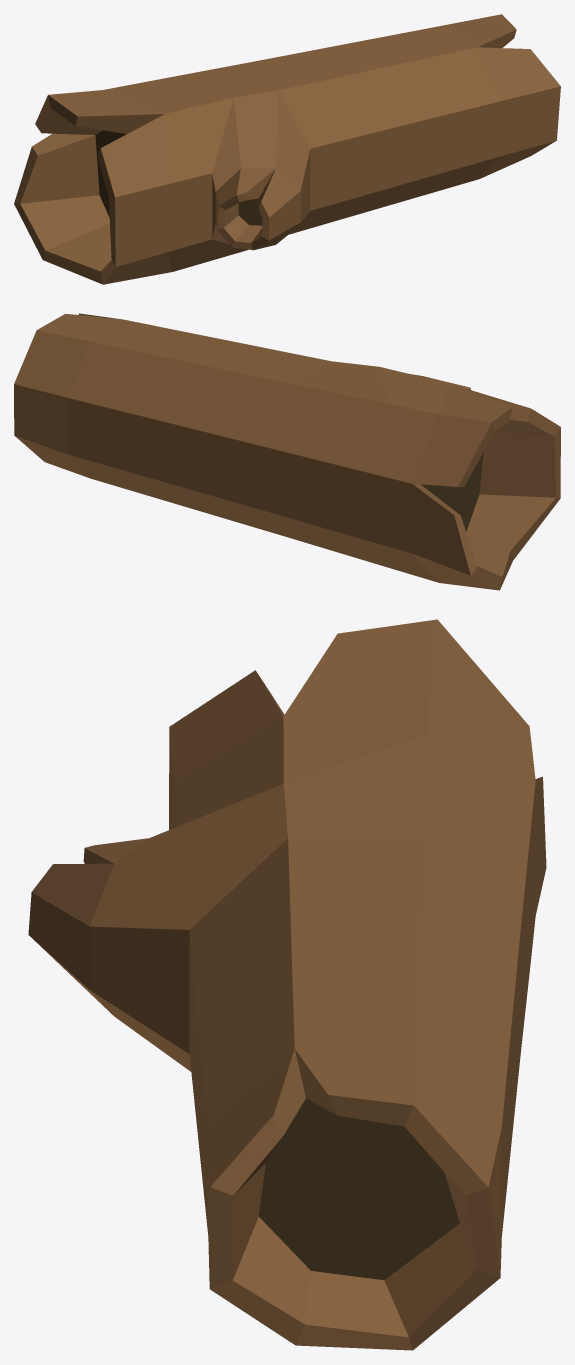
File: HollowLog.fbx
The picture shows the model from 3 angles, top to bottom: view 1: azimuth 30°, elevation 25°; view 2: azimuth 150°, elevation 25°; view 3: azimuth 270°, elevation 25°; orthographic projection. The views are drawn at different scales.
Visible parts, largest first — view 1: HollowLog; view 2: HollowLog; view 3: HollowLog.
Boxes of the visible parts, box(x1,y1,x2,y2) form: HollowLog: box(14, 14, 560, 284); HollowLog: box(14, 313, 560, 590); HollowLog: box(28, 619, 546, 1350).
Size of the model in its own units: 520 by 183 by 252.
